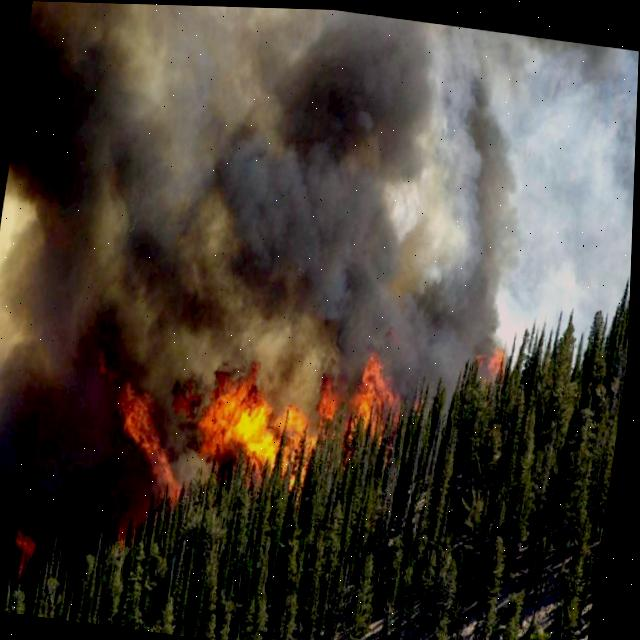fire: (210, 380, 317, 458)
smoke: (0, 1, 639, 572)
